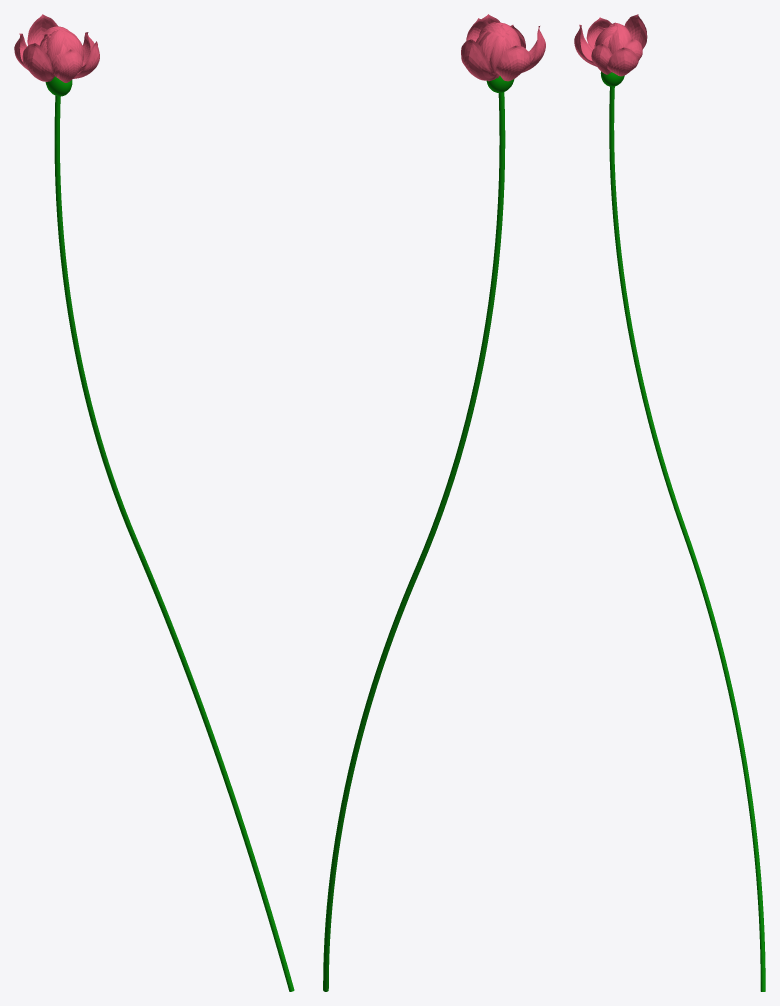
The model's file is Lotus033.fbx.
3 views of the same model, side by side, from view 1: azimuth 30°, elevation 25°; view 2: azimuth 150°, elevation 25°; view 3: azimuth 330°, elevation 25° (orthographic). The views are drawn at different scales.
Visible parts, largest first — view 1: pCylinder5, nurbsToPoly11, nurbsToPoly8; view 2: pCylinder5, nurbsToPoly10, nurbsToPoly12; view 3: pCylinder5, nurbsToPoly24, nurbsToPoly10.
Part boxes in pixels (<box>): pCylinder5: <box>54,95,294,991</box>; nurbsToPoly11: <box>22,43,55,81</box>; nurbsToPoly8: <box>56,49,82,82</box>; pCylinder5: <box>323,92,505,991</box>; nurbsToPoly10: <box>461,39,497,80</box>; nurbsToPoly12: <box>496,45,531,81</box>; pCylinder5: <box>609,86,765,991</box>; nurbsToPoly24: <box>607,47,638,76</box>; nurbsToPoly10: <box>624,14,647,49</box>.
Size of the model in its own units: 50.76 by 201 by 22.07.
